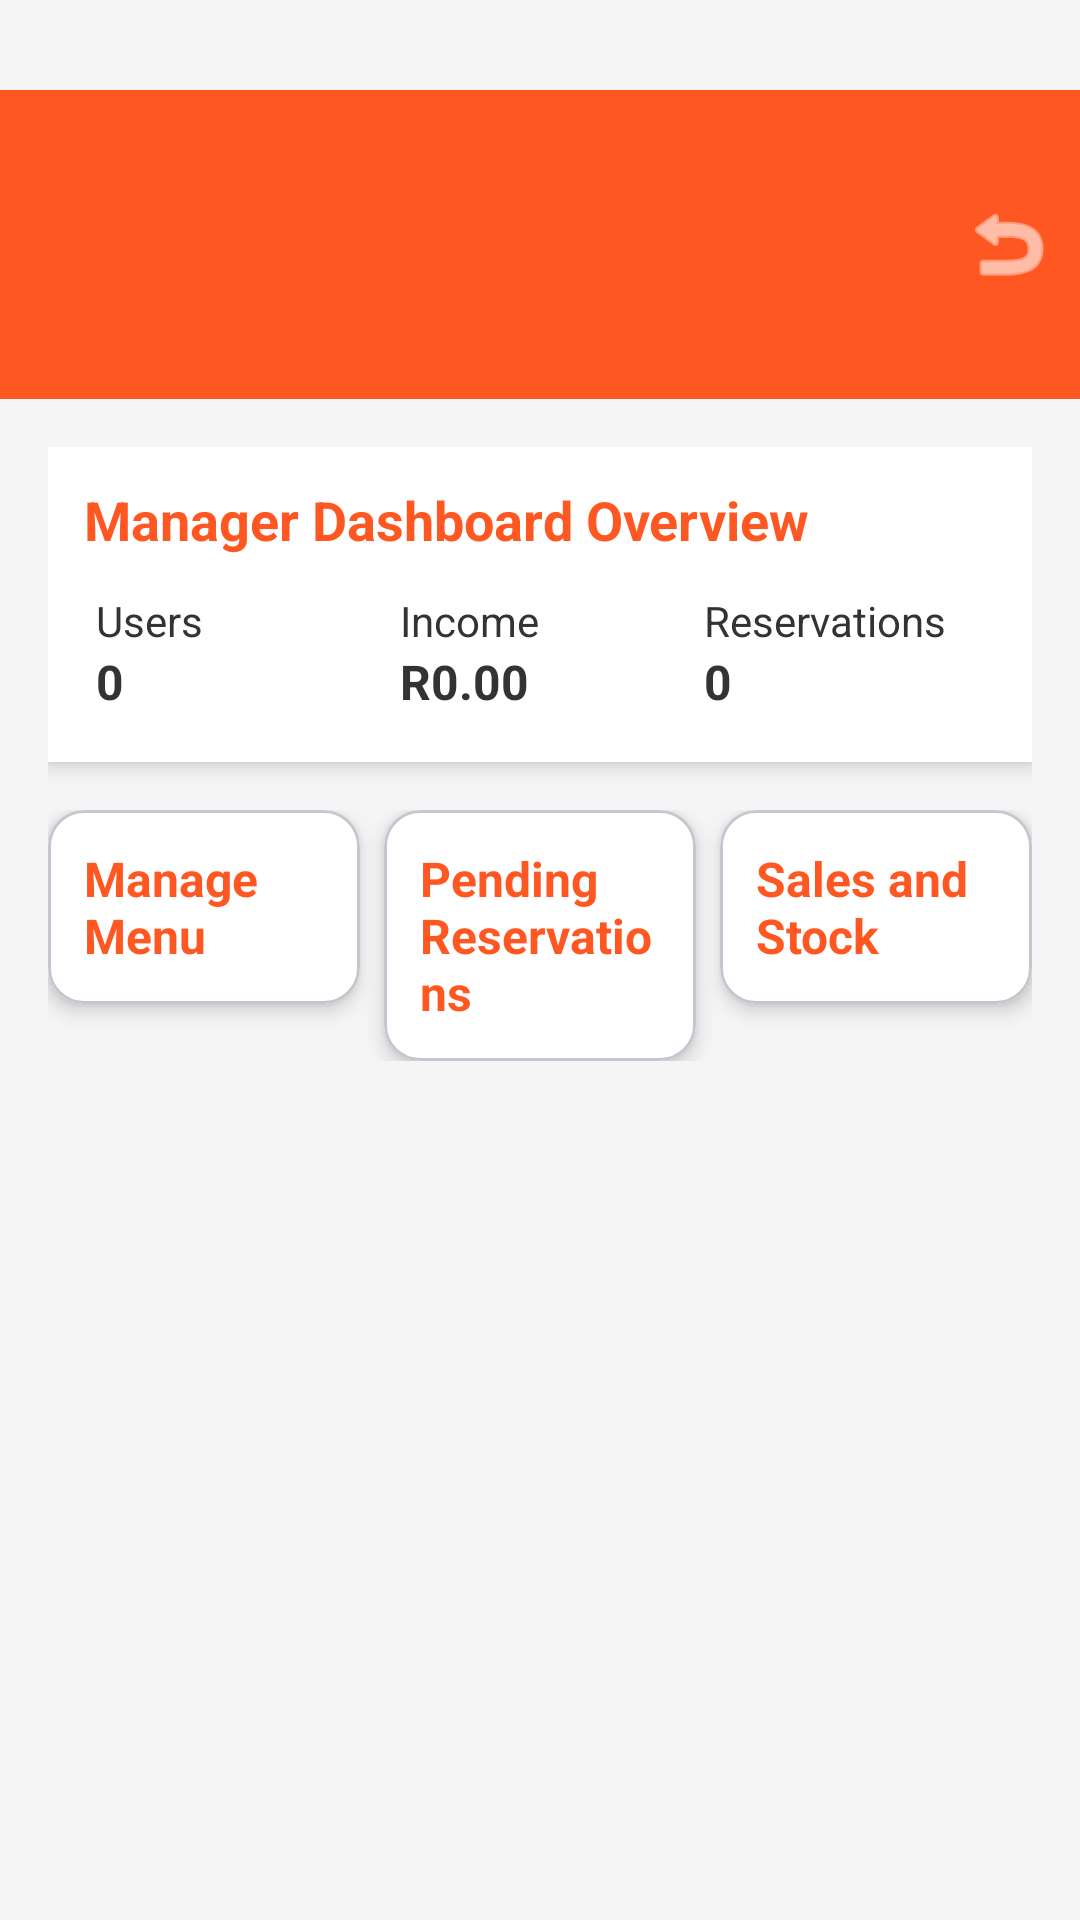

Named icons in this screenshot (1080px x 1920px) and their bounding boxes, (x1, y1, x2, y2):
Back: (975, 213, 1044, 276)
